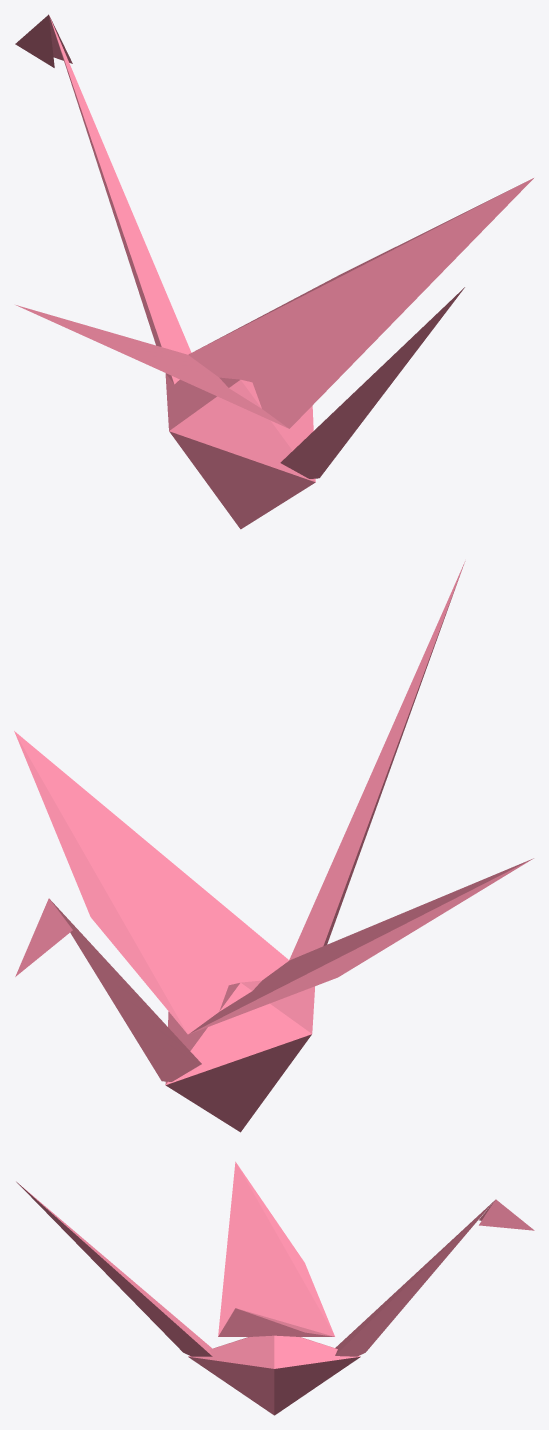
The model's file is paper_crane.glb.
3 renders of one model, top to bottom at view 1: azimuth 30°, elevation 25°; view 2: azimuth 150°, elevation 25°; view 3: azimuth 270°, elevation 25°, orthographic. The views are drawn at different scales.
Parts seen in each view (by area): view 1: crane; view 2: crane; view 3: crane.
Part boxes in pixels (x1=…): crane: x1=15, y1=14, x2=533, y2=529; crane: x1=14, y1=561, x2=533, y2=1132; crane: x1=16, y1=1161, x2=534, y2=1415.
Bounding box in the file's own units: 4 × 3 × 6.
